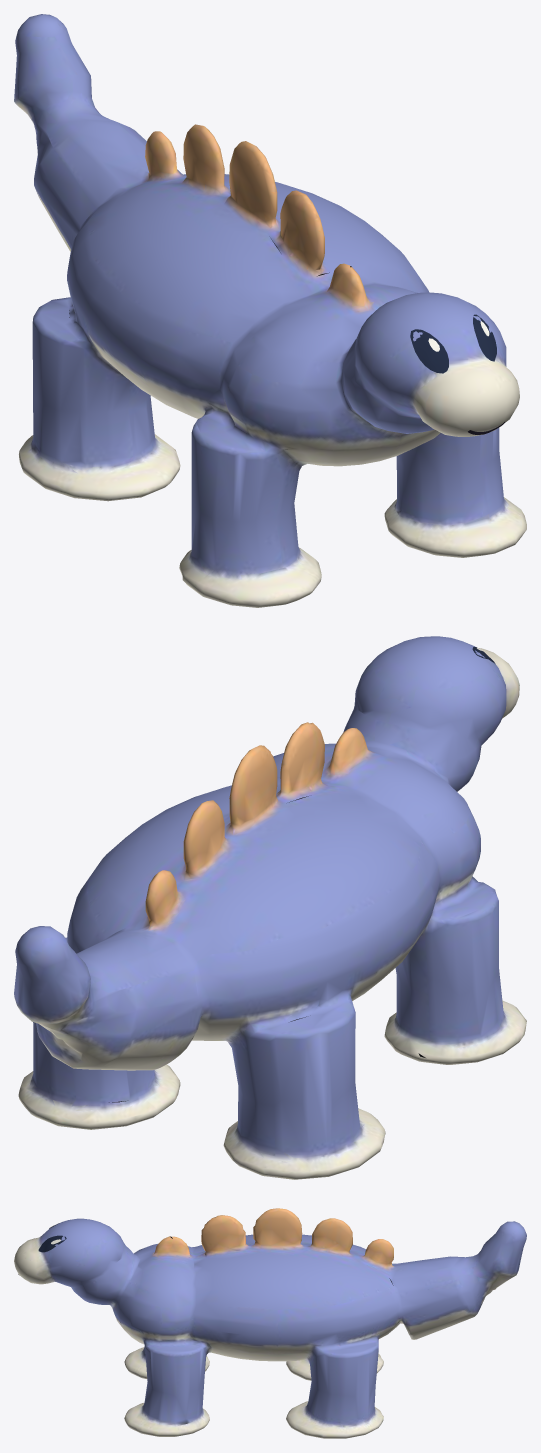
The model's file is dino-mid-stand.glb.
The picture shows the model from 3 angles, top to bottom: view 1: azimuth 30°, elevation 25°; view 2: azimuth 150°, elevation 25°; view 3: azimuth 270°, elevation 25°; orthographic projection. The views are drawn at different scales.
Parts seen in each view (by area): view 1: dino-mid-stand; view 2: dino-mid-stand; view 3: dino-mid-stand.
Part boxes in pixels (left/top/right/bottom): dino-mid-stand: left=14, top=14, right=526, bottom=607; dino-mid-stand: left=14, top=636, right=526, bottom=1179; dino-mid-stand: left=14, top=1208, right=526, bottom=1438.
Bounding box in the file's own units: 2.97 × 2.88 × 7.03.
4 materials, 1 textured.
